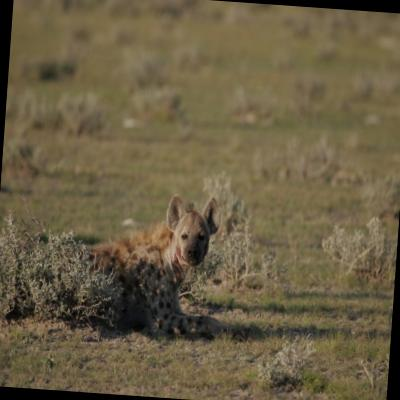hyenas: (58, 175, 248, 350)
